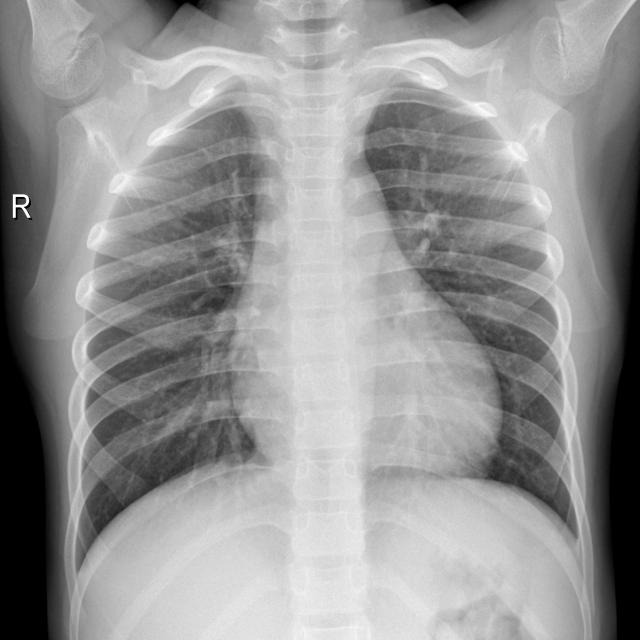no-pneumonia: (365, 87, 580, 537), (77, 93, 272, 561)
